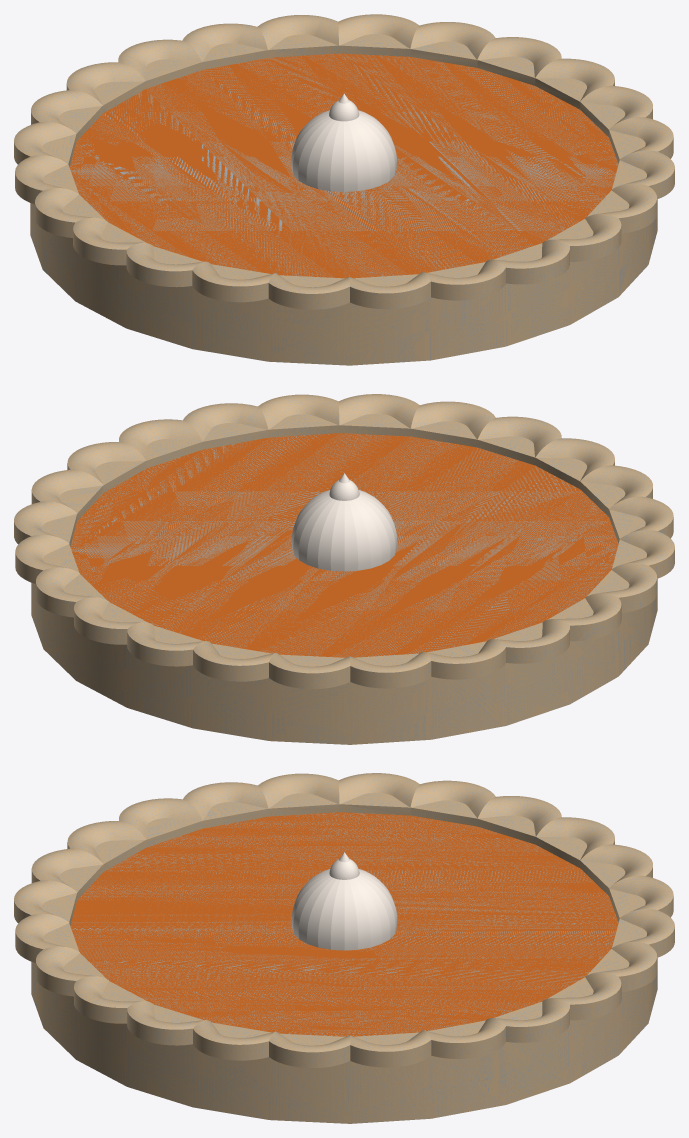
The picture shows the model from 3 angles, top to bottom: view 1: azimuth 30°, elevation 25°; view 2: azimuth 150°, elevation 25°; view 3: azimuth 270°, elevation 25°; orthographic projection.
Parts seen in each view (by area): view 1: Pie (×2), Whipped_Cream; view 2: Pie (×2), Whipped_Cream; view 3: Pie (×2), Whipped_Cream.
Part boxes in pixels (bbox=[...]): Pie (×2): bbox=[14, 14, 674, 365]; Whipped_Cream: bbox=[291, 93, 396, 191]; Pie (×2): bbox=[14, 394, 674, 744]; Whipped_Cream: bbox=[291, 473, 397, 571]; Pie (×2): bbox=[14, 773, 674, 1123]; Whipped_Cream: bbox=[291, 852, 397, 950].
Bounding box in the file's own units: 18.99 × 18.99 × 4.42.
